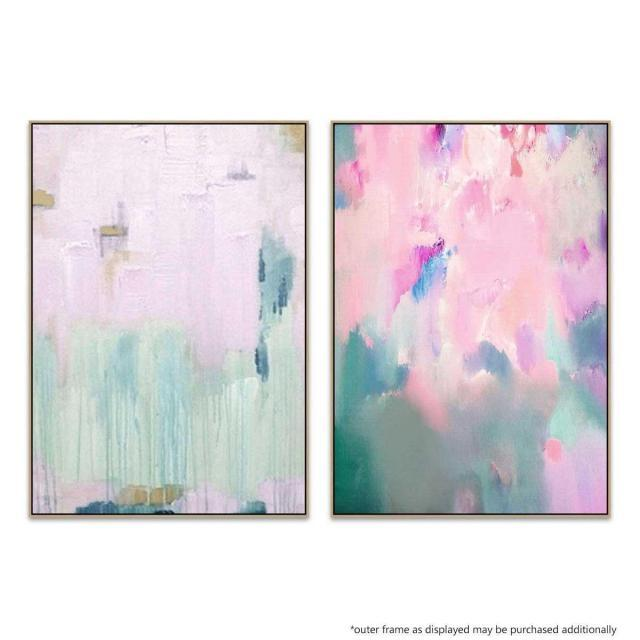painting: (30, 123, 305, 514), (333, 123, 606, 513)
